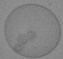small: (18, 34, 28, 44), (13, 44, 23, 53), (27, 31, 35, 41)
